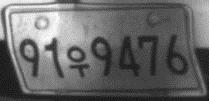1: (43, 35, 66, 80)
4: (116, 34, 142, 78)
6: (166, 34, 189, 77)
7: (136, 33, 160, 77)
9: (90, 34, 113, 79), (18, 38, 39, 78)
우: (66, 45, 90, 78)
